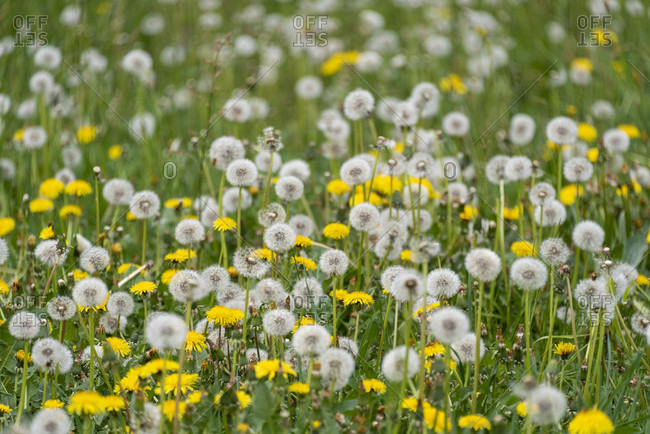begonvil: (154, 374, 212, 418), (573, 278, 617, 332), (380, 264, 429, 307), (199, 263, 248, 306), (530, 179, 569, 227), (142, 310, 186, 352), (317, 346, 359, 389), (383, 145, 433, 181), (381, 343, 426, 381), (480, 153, 530, 186), (67, 392, 131, 417), (71, 277, 112, 316), (428, 305, 470, 343), (465, 246, 503, 286), (572, 218, 609, 257), (547, 113, 582, 154), (209, 134, 247, 170), (509, 258, 549, 292), (44, 336, 75, 379), (560, 154, 597, 190), (169, 267, 205, 303), (427, 266, 462, 302), (333, 284, 379, 311), (168, 219, 208, 250), (206, 303, 246, 334), (294, 325, 330, 359), (234, 248, 272, 280), (261, 303, 296, 337), (259, 221, 296, 253), (314, 248, 352, 279), (337, 89, 378, 117), (75, 247, 114, 276), (127, 192, 166, 221), (539, 235, 572, 269), (336, 156, 372, 187), (104, 289, 136, 321), (134, 357, 182, 378), (126, 275, 165, 299), (227, 158, 258, 185), (349, 202, 381, 228), (47, 296, 76, 323), (511, 233, 539, 260), (324, 221, 353, 243), (274, 179, 304, 200), (212, 218, 239, 235)
